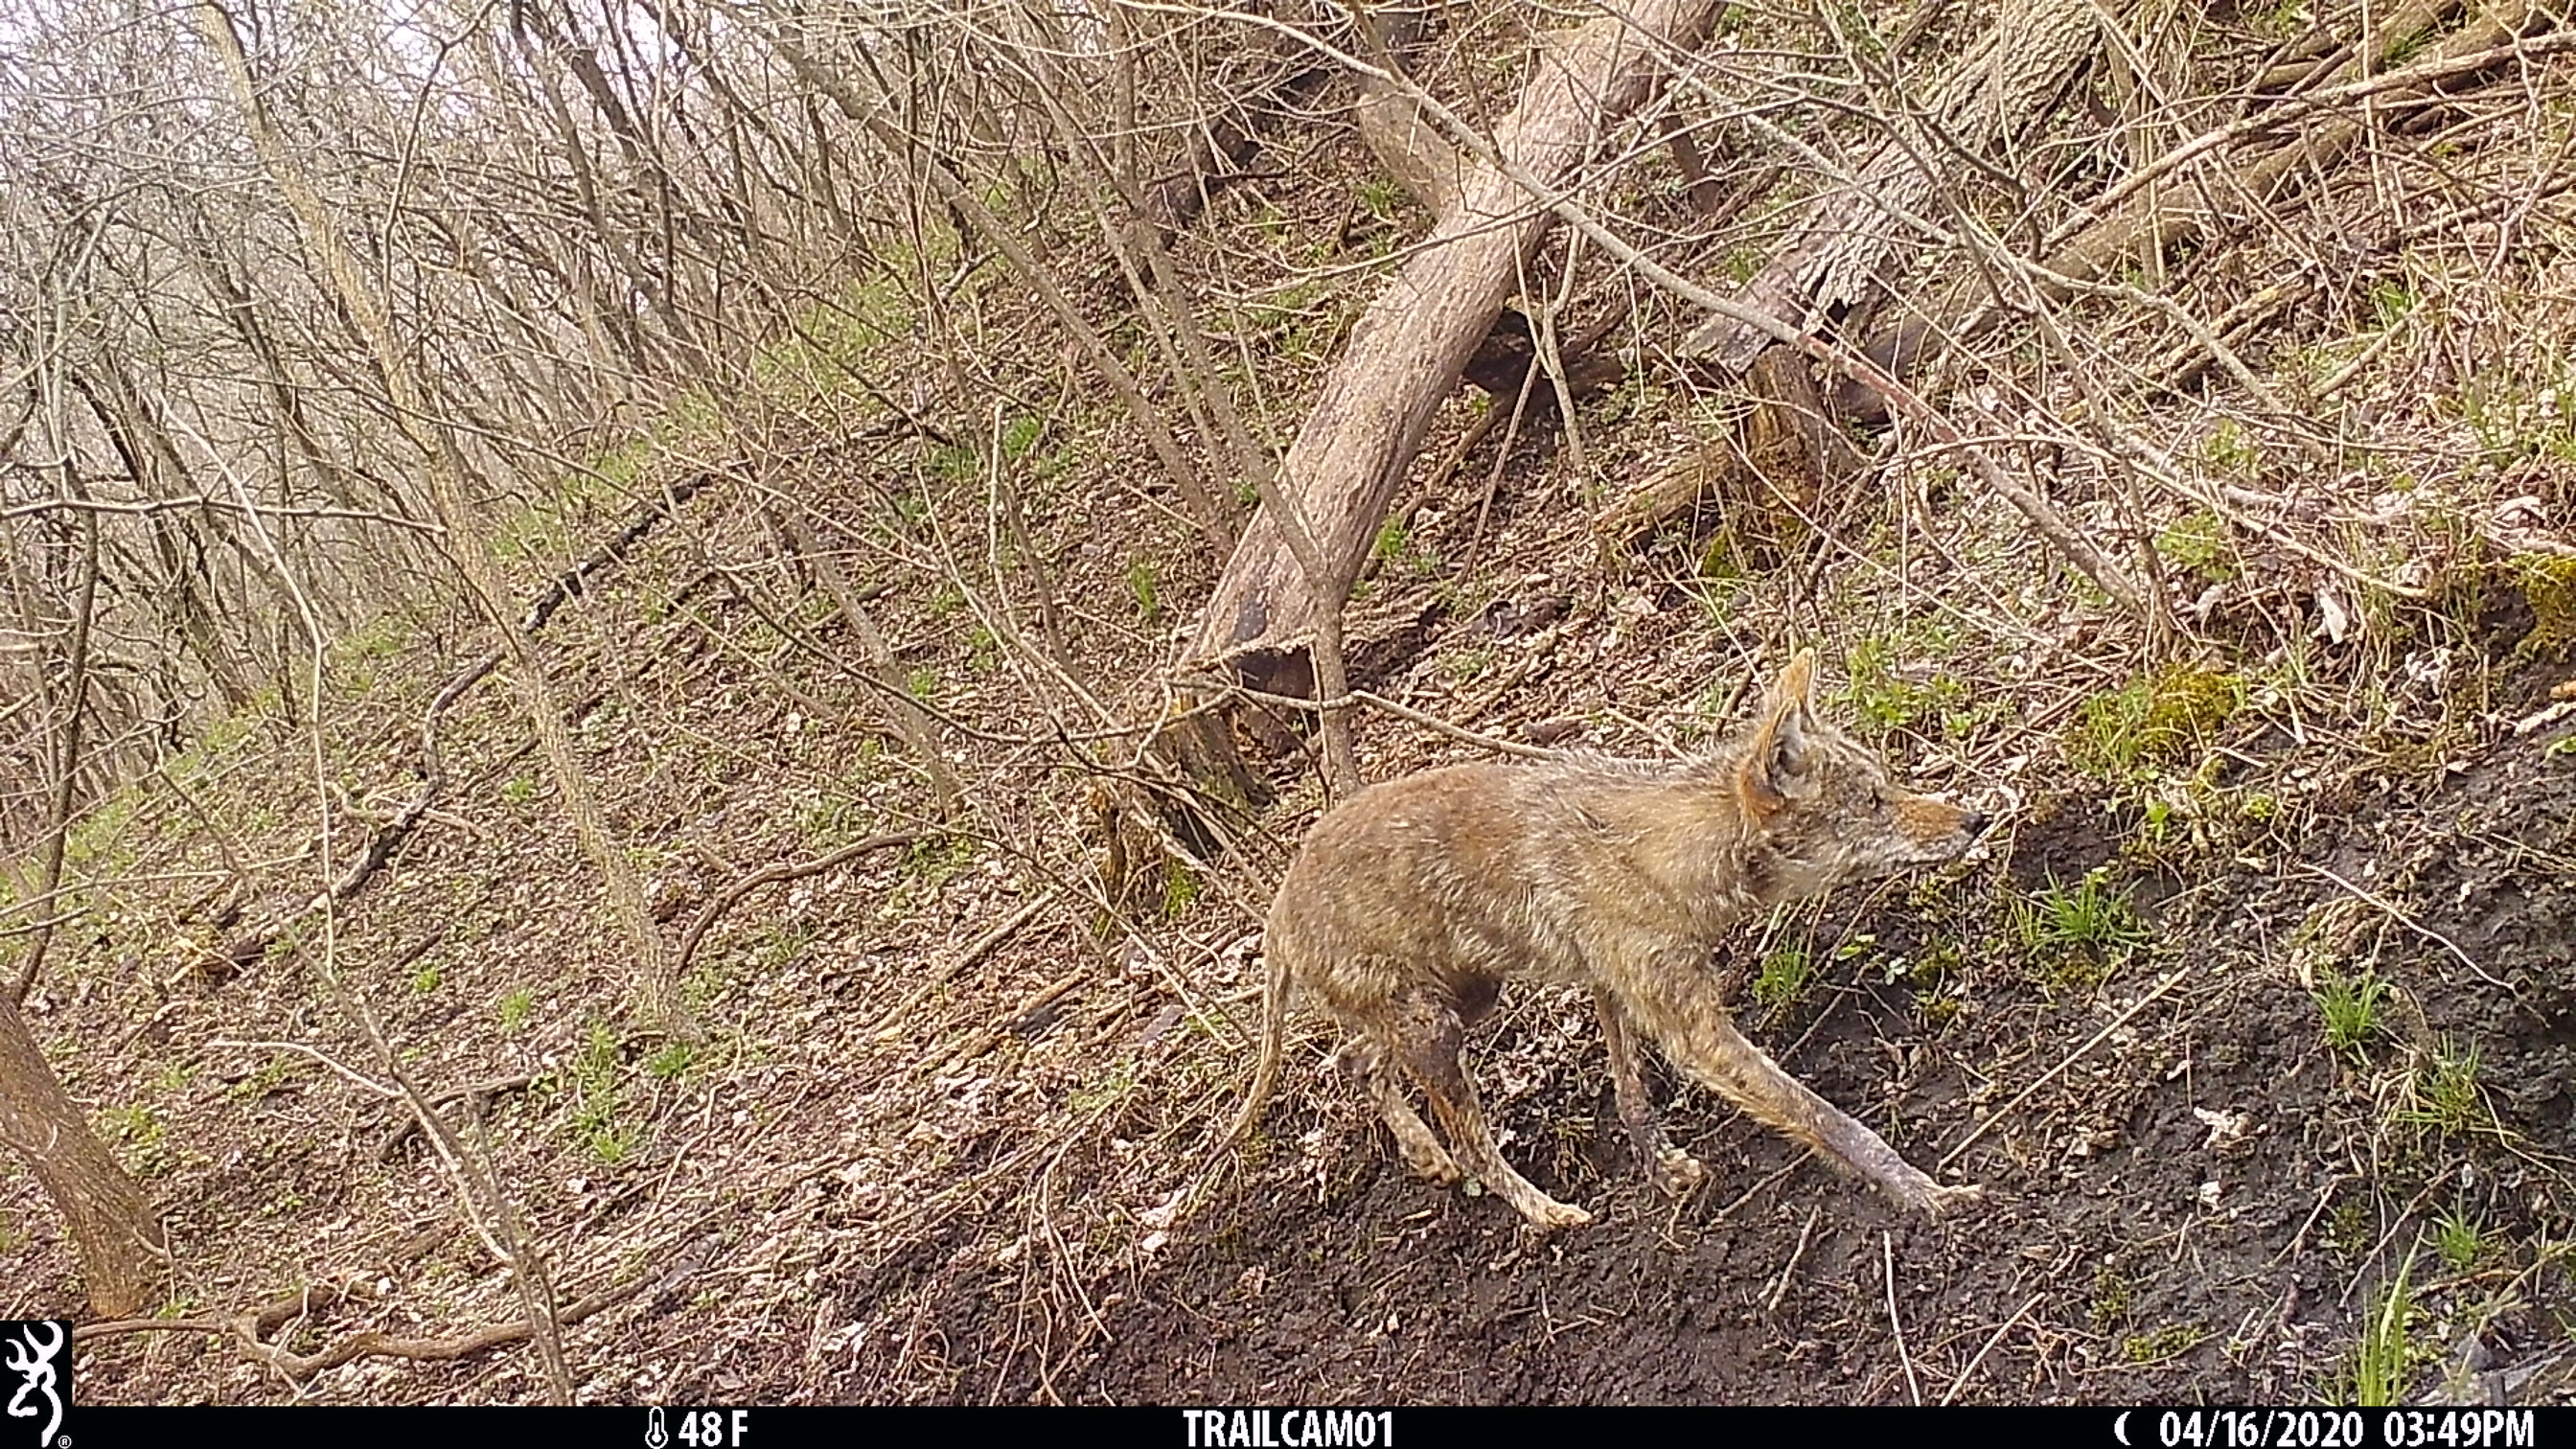Coyote: (1226, 640, 1992, 1228)
